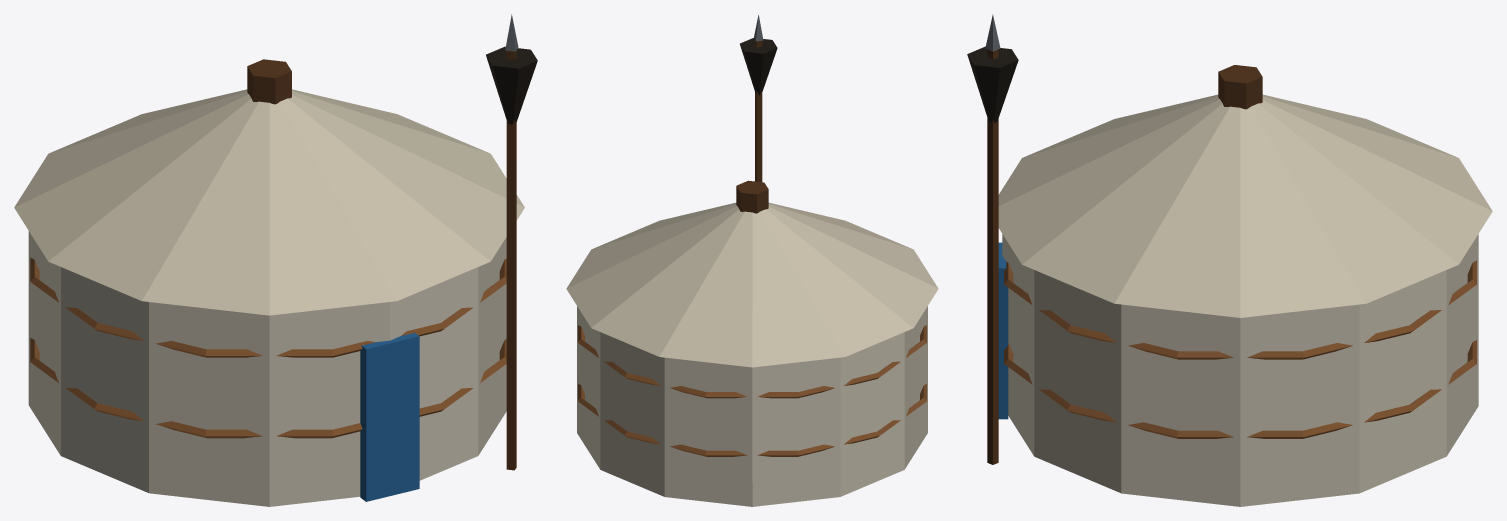
File: orc_house_b_broken.glb
The picture shows the model from 3 angles, left to right: view 1: azimuth 30°, elevation 25°; view 2: azimuth 150°, elevation 25°; view 3: azimuth 270°, elevation 25°; orthographic projection. The views are drawn at different scales.
Visible parts, largest first — view 1: orc_house_b_piece4, orc_house_b_piece13, orc_house_b_piece9, orc_house_b_piece0, orc_house_b_piece10, orc_house_b_piece5, orc_house_b_piece6, orc_house_b_piece1, orc_house_b_piece7, orc_house_b_piece11, orc_house_b_piece12, orc_house_b_piece3; view 2: orc_house_b_piece1, orc_house_b_piece7, orc_house_b_piece0, orc_house_b_piece8, orc_house_b_piece13, orc_house_b_piece6, orc_house_b_piece11, orc_house_b_piece4, orc_house_b_piece2, orc_house_b_piece3, orc_house_b_piece10, orc_house_b_piece12 (+1 smaller); view 3: orc_house_b_piece3, orc_house_b_piece1, orc_house_b_piece6, orc_house_b_piece9, orc_house_b_piece4, orc_house_b_piece2, orc_house_b_piece10, orc_house_b_piece12, orc_house_b_piece7.
Boxes of the visible parts, x1,y1,x2,y2 form: orc_house_b_piece4: (124, 171, 516, 389); orc_house_b_piece13: (47, 224, 309, 506); orc_house_b_piece9: (327, 264, 516, 501); orc_house_b_piece0: (21, 171, 170, 433); orc_house_b_piece10: (163, 59, 480, 232); orc_house_b_piece5: (159, 159, 369, 502); orc_house_b_piece6: (355, 104, 499, 229); orc_house_b_piece1: (86, 81, 391, 157); orc_house_b_piece7: (14, 129, 177, 327); orc_house_b_piece11: (17, 129, 223, 238); orc_house_b_piece12: (486, 14, 537, 230); orc_house_b_piece3: (441, 132, 524, 301); orc_house_b_piece1: (581, 196, 799, 433); orc_house_b_piece7: (623, 255, 851, 482); orc_house_b_piece0: (831, 263, 926, 494); orc_house_b_piece8: (622, 424, 845, 506); orc_house_b_piece13: (874, 266, 933, 481); orc_house_b_piece6: (566, 209, 707, 401); orc_house_b_piece11: (787, 227, 859, 369); orc_house_b_piece4: (755, 169, 938, 295); orc_house_b_piece2: (578, 431, 680, 498); orc_house_b_piece3: (577, 218, 668, 441); orc_house_b_piece10: (736, 180, 881, 269); orc_house_b_piece12: (740, 15, 777, 171); orc_house_b_piece3: (1054, 277, 1458, 494); orc_house_b_piece1: (1157, 82, 1492, 376); orc_house_b_piece6: (1073, 189, 1445, 366); orc_house_b_piece9: (987, 285, 1149, 496); orc_house_b_piece4: (987, 107, 1164, 335); orc_house_b_piece2: (1146, 374, 1478, 506); orc_house_b_piece10: (1087, 65, 1262, 261); orc_house_b_piece12: (967, 14, 1018, 230); orc_house_b_piece7: (1289, 100, 1478, 365).
Bounding box in the file's own units: 2.65 × 2.6 × 2.76.
